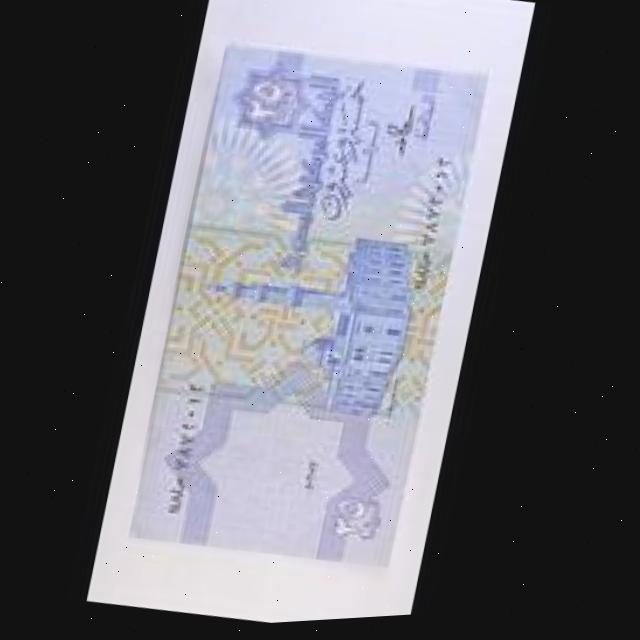banknote: (127, 34, 494, 586)
